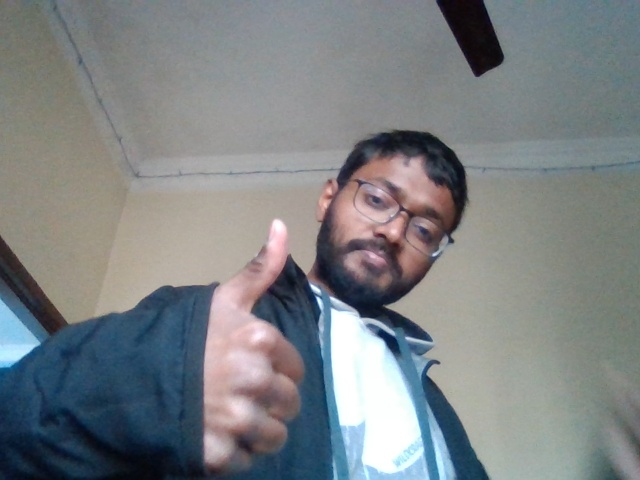good: (187, 211, 308, 468)
